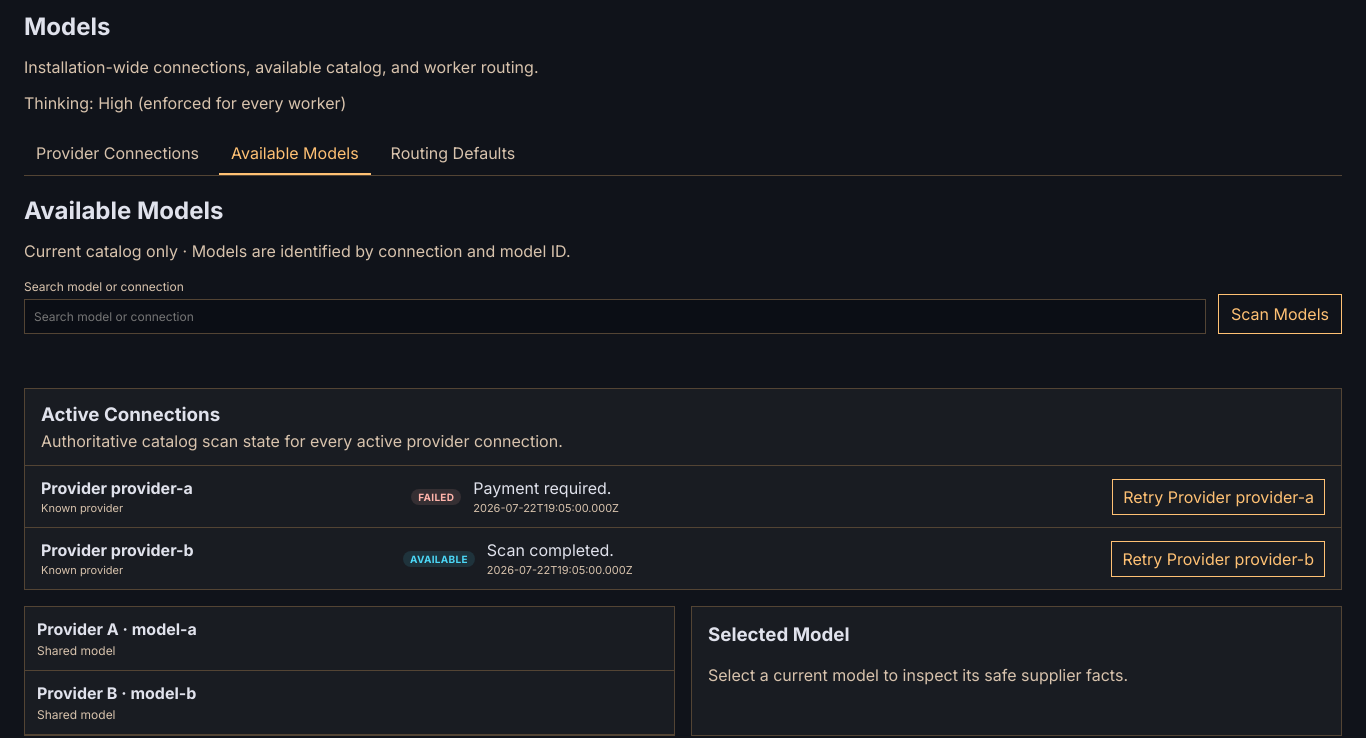
Test: ModelsDestination › retains an unaffected selected model after an all-connections failure
Step 1. Click the option "Provider B · model-b Shared model" → (77, 693), box [25,671,674,735]
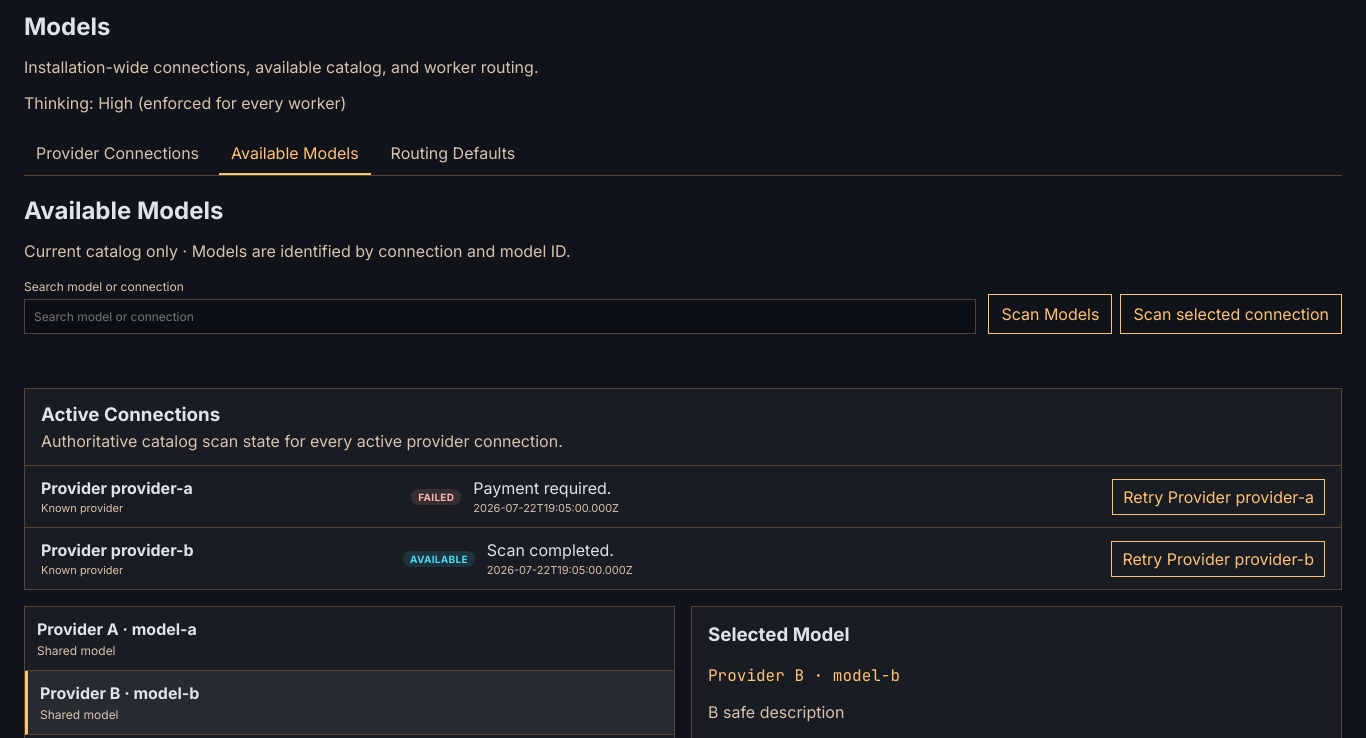
Step 2. Click the button "Scan Models" → (1050, 314), box [988,294,1112,334]
(page scrolled)
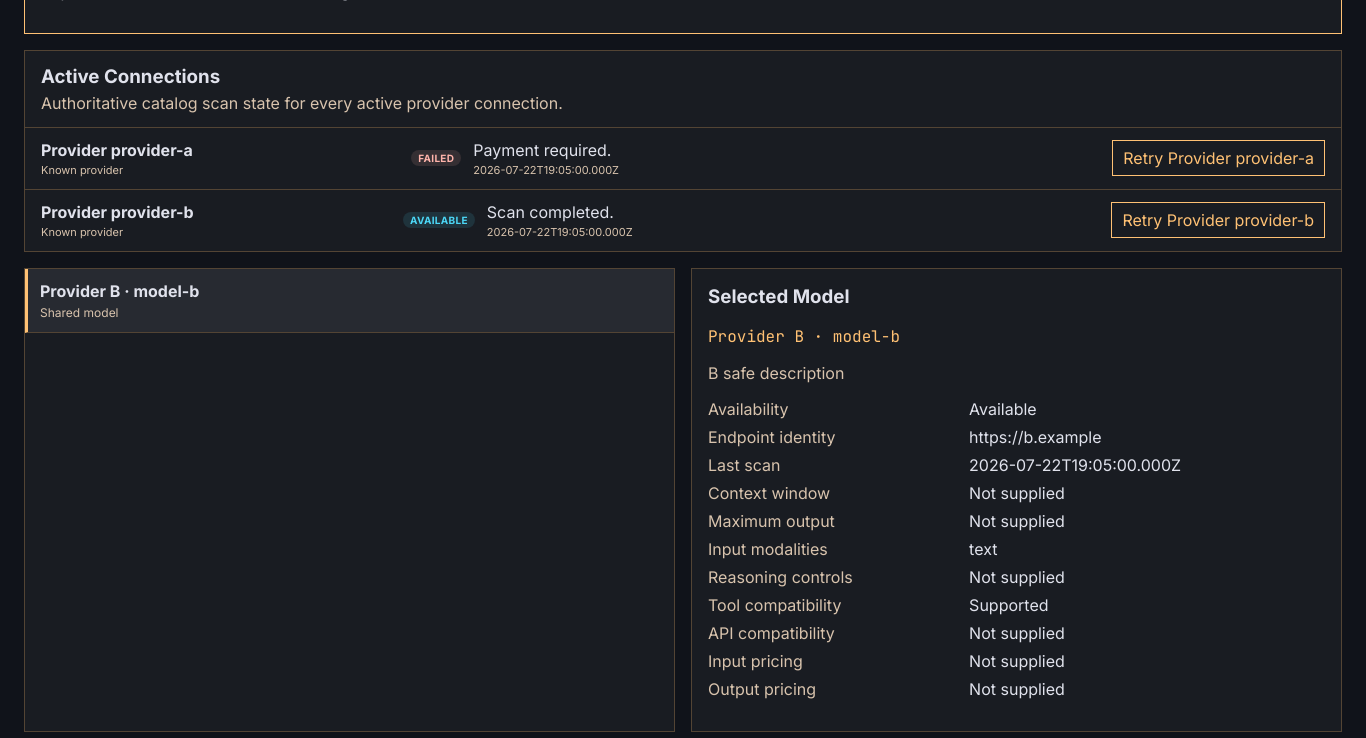
Check: the text "B safe description" is shown, box [708,363,844,383]
Check: the option "Provider A · model-a" is gone
